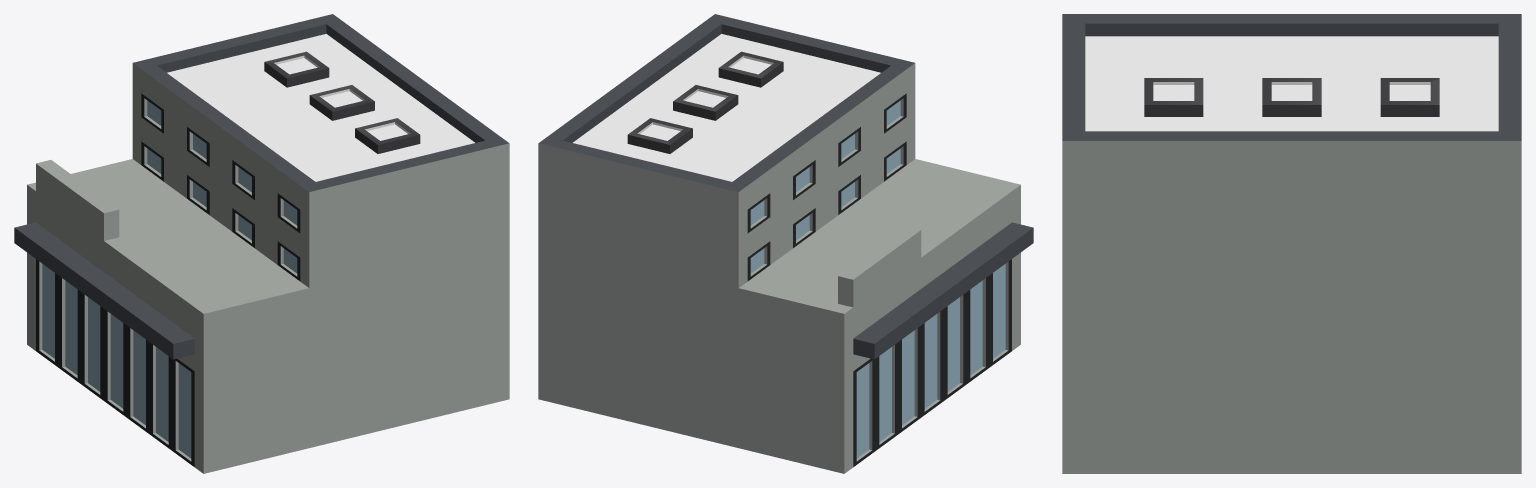
The model's file is small_shop_2.fbx.
3 renders of one model, left to right at view 1: azimuth 30°, elevation 25°; view 2: azimuth 150°, elevation 25°; view 3: azimuth 270°, elevation 25°, orthographic. The views are drawn at different scales.
Visible parts, largest first — view 1: Cube; view 2: Cube; view 3: Cube.
Part boxes in pixels (x1=…): Cube: x1=14, y1=14, x2=509, y2=473; Cube: x1=538, y1=14, x2=1033, y2=473; Cube: x1=1062, y1=14, x2=1521, y2=473.
Bounding box in the file's own units: 1070 × 800 × 1000.
